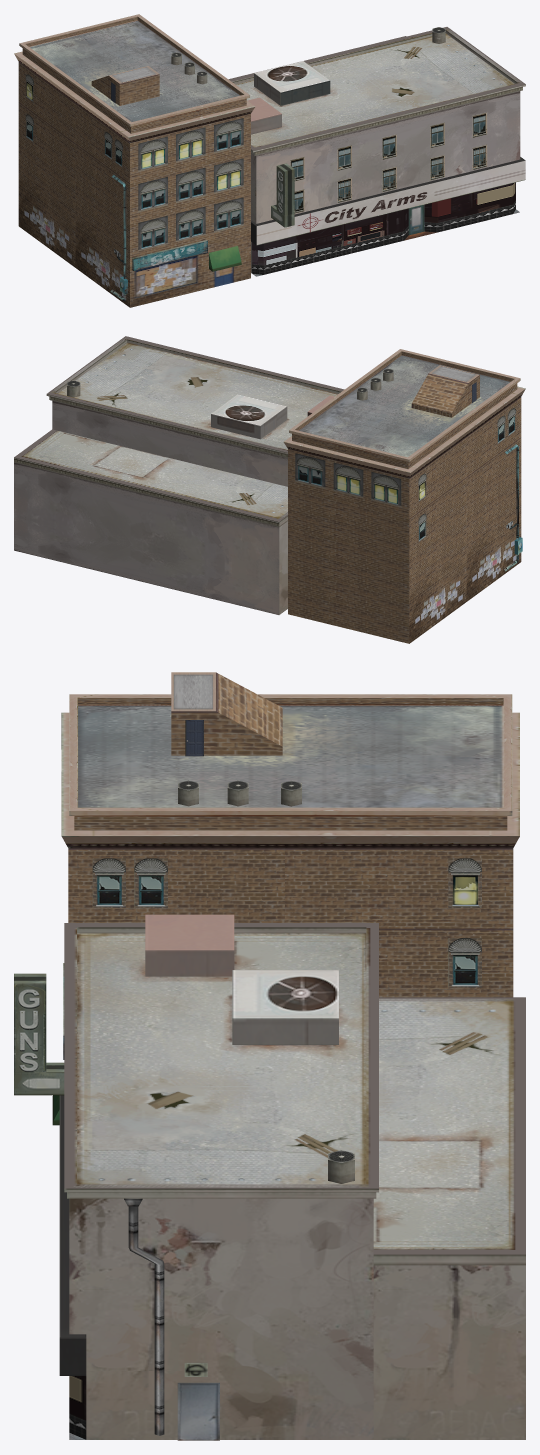
3 views of the same model, one above another, from view 1: azimuth 30°, elevation 25°; view 2: azimuth 150°, elevation 25°; view 3: azimuth 270°, elevation 25° (orthographic). The views are drawn at different scales.
Parts seen in each view (by area): view 1: polySurface112_FillerBuildings1_0; view 2: polySurface112_FillerBuildings1_0; view 3: polySurface112_FillerBuildings1_0.
Boxes of the visible parts, left/top/right/bottom form: polySurface112_FillerBuildings1_0: left=14, top=14, right=525, bottom=307; polySurface112_FillerBuildings1_0: left=14, top=336, right=525, bottom=643; polySurface112_FillerBuildings1_0: left=14, top=672, right=525, bottom=1440.
Size of the model in its own units: 18.1 by 8.74 by 10.09.
Materials: 2 (2 with a texture image).
